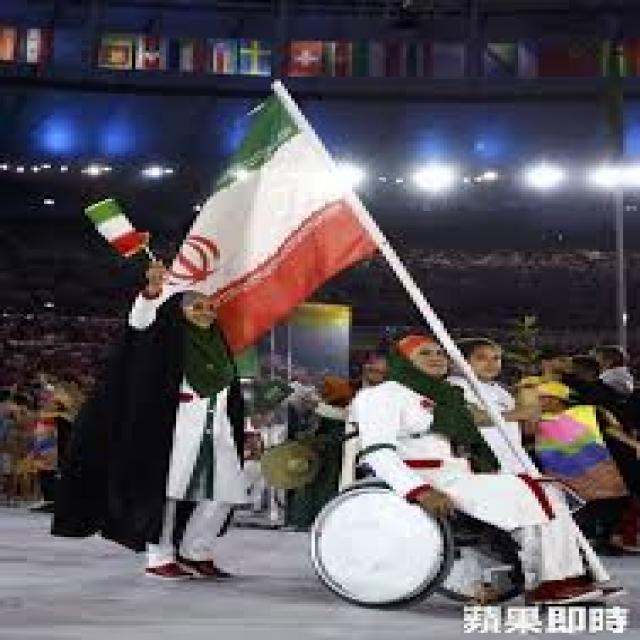wheelchairs: (315, 408, 599, 600)
